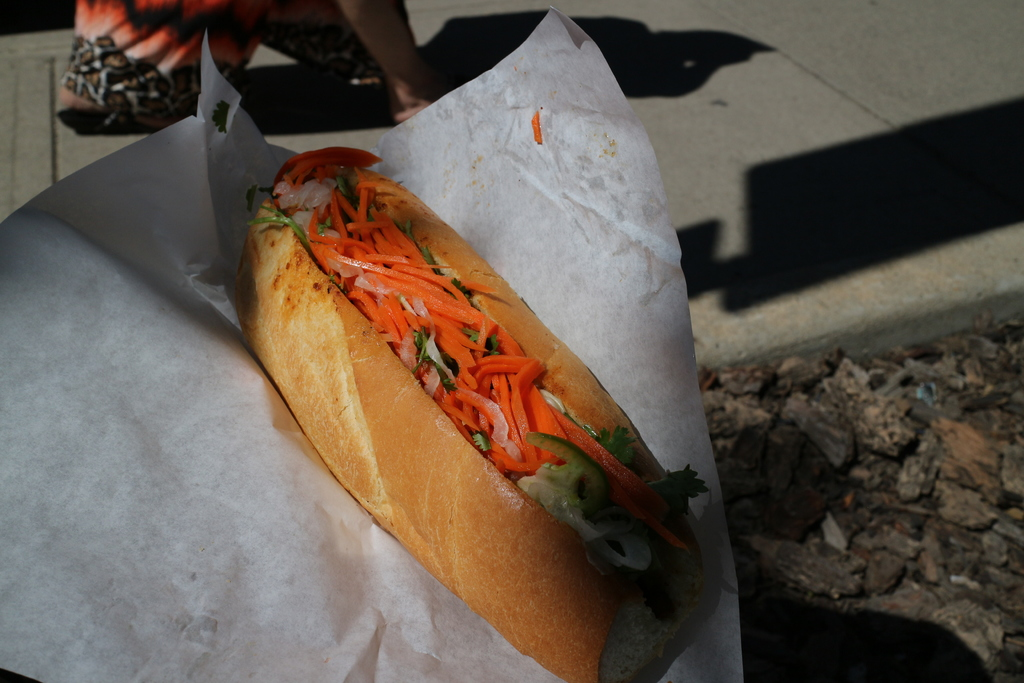hot_dog: (219, 142, 708, 682)
